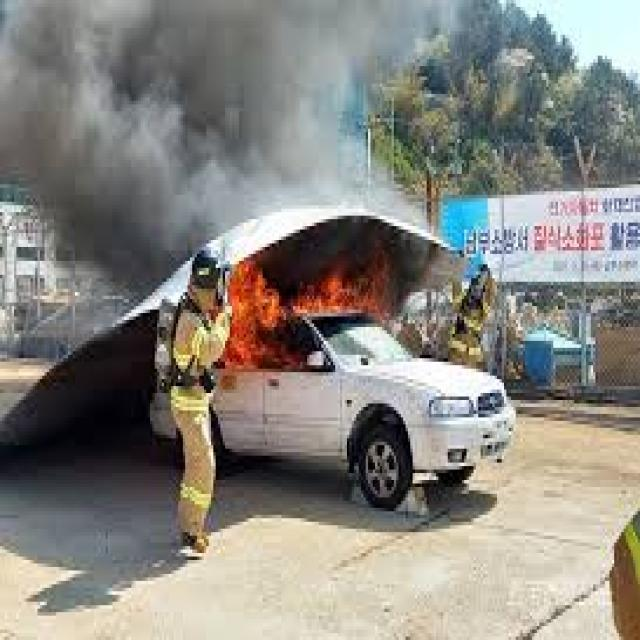Fire: (230, 260, 280, 366)
Smoke: (26, 12, 358, 204)
